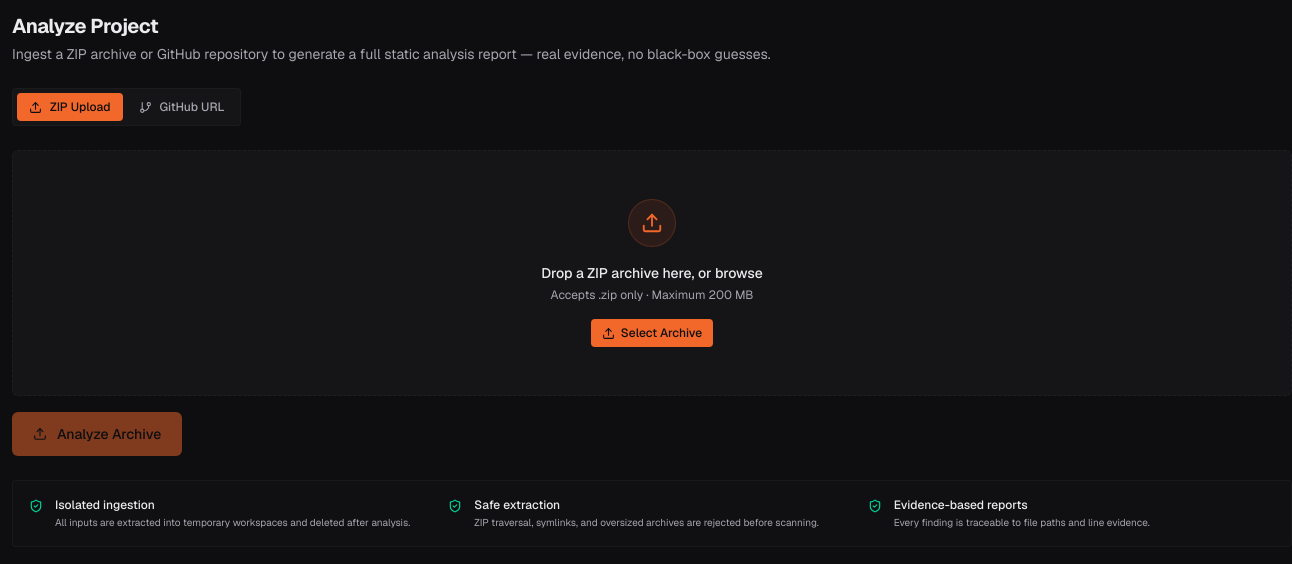
Test case: Analyze page › renders GitHub mode with repository URL input
This screenshot has width=1292, height=564.
Click the button "GitHub URL": (182, 107) top-left (127, 93), bottom-right (236, 121)
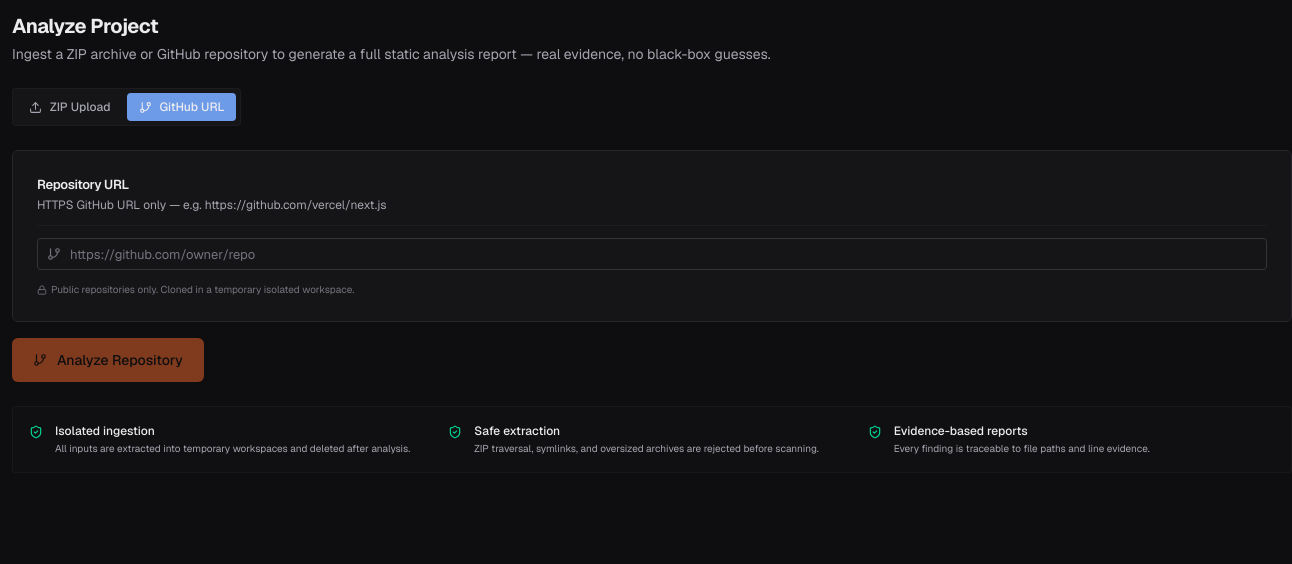
Now the field with placeholder "https://github.com/owner/repo" is shown, box top-left (37, 238), bottom-right (1267, 270)
Now the button "Analyze Repository" is shown, box top-left (12, 338), bottom-right (204, 382)
